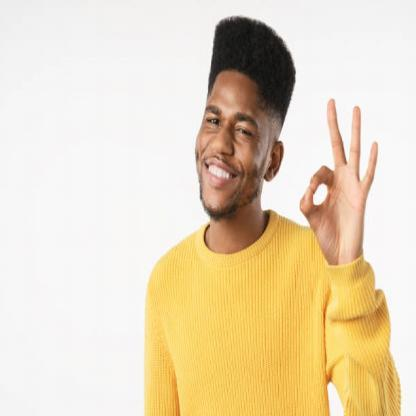ok: (297, 94, 380, 268)
